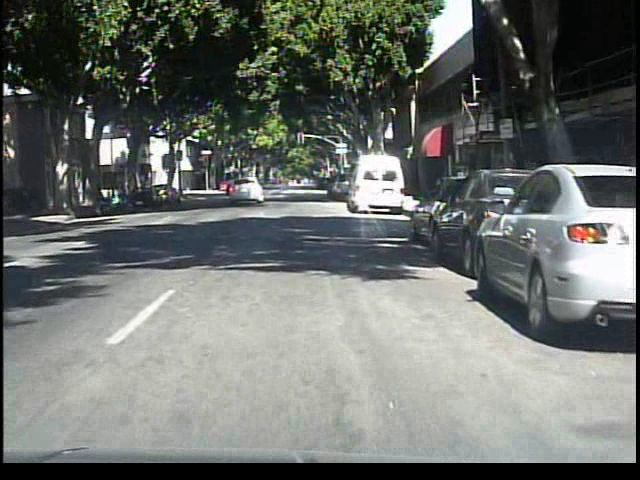person: (273, 167, 293, 200)
